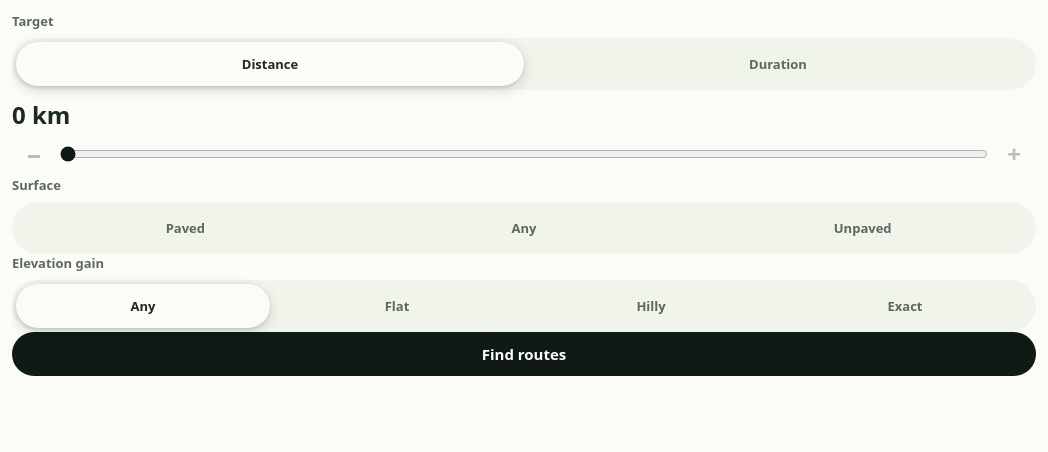
Test: CriteriaForm › pace › shows the saved pace
Click the radio button labelled "Duration" at (778, 64), box [749,55,807,73]
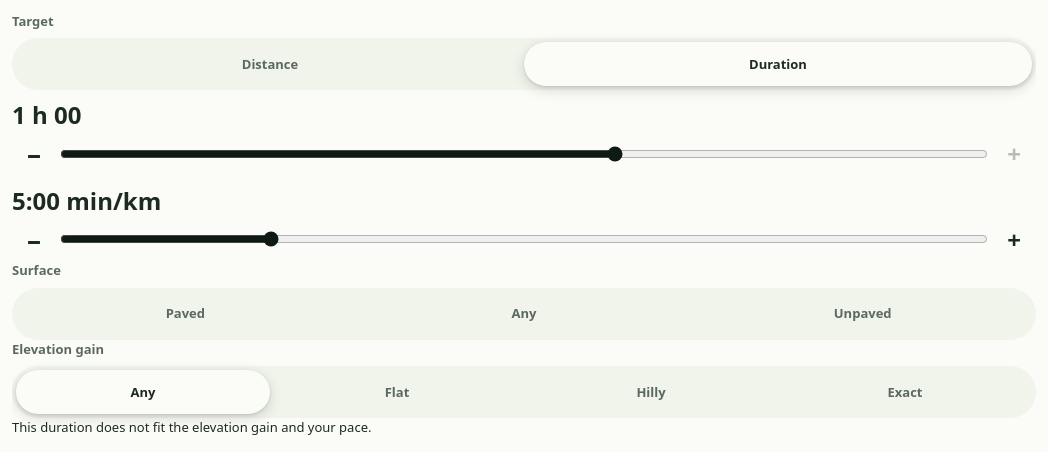
Check: the text with test id "criteria-pace-value" reads "5:00 min/km", box [12,184,161,217]
